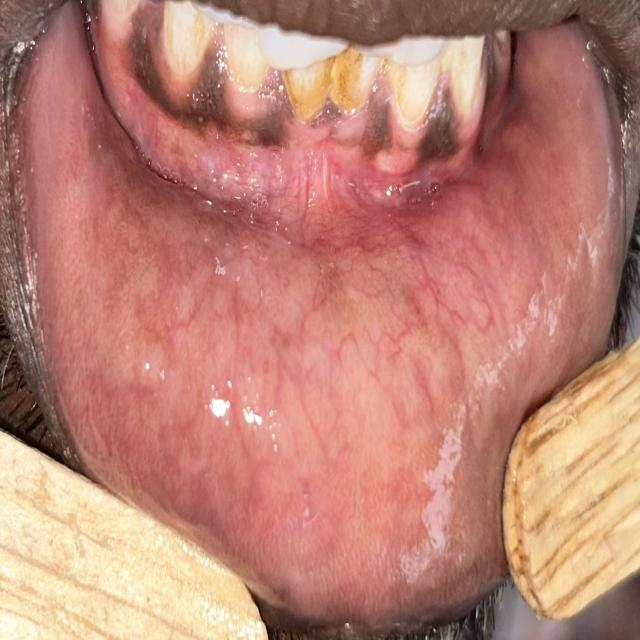processing_area: (28, 0, 614, 610)
